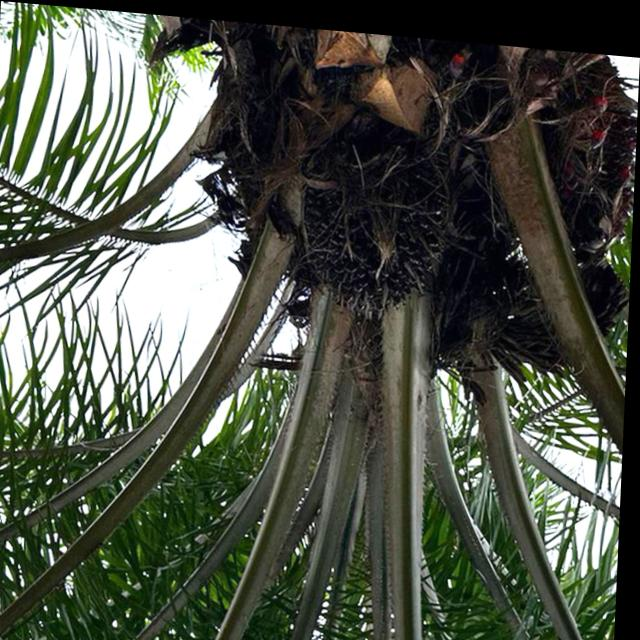almost: (300, 128, 448, 320), (530, 61, 637, 256)
